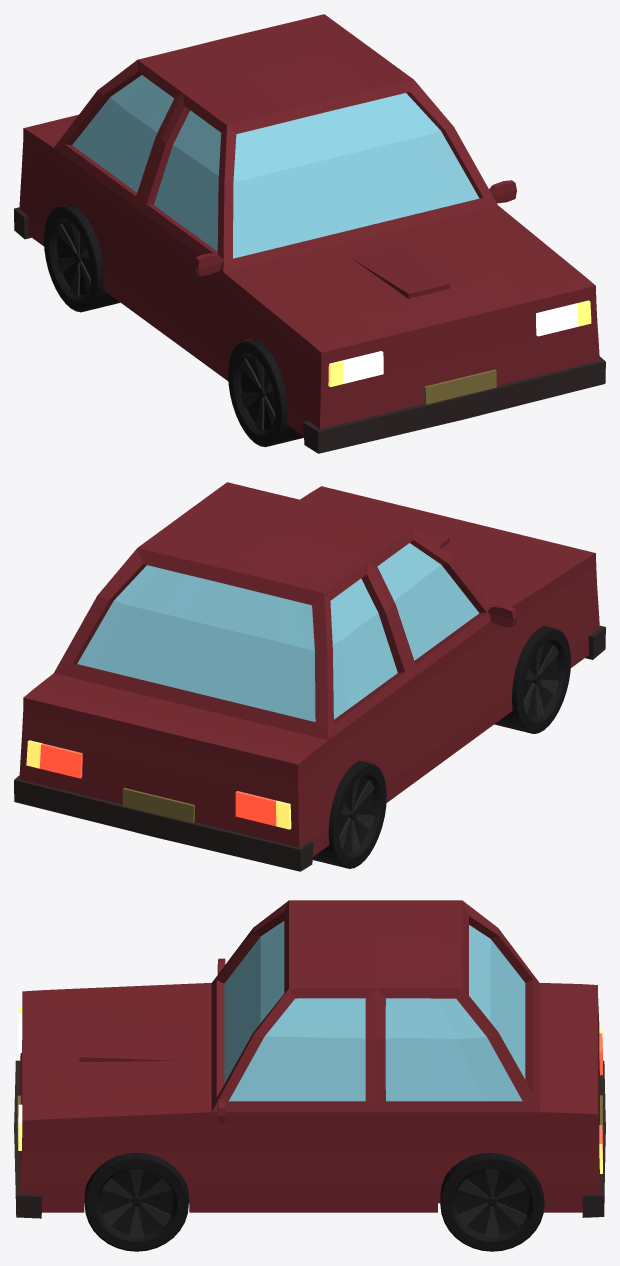
File: Small_Car.fbx
3 views of the same model, one above another, from view 1: azimuth 30°, elevation 25°; view 2: azimuth 150°, elevation 25°; view 3: azimuth 270°, elevation 25° (orthographic). The views are drawn at different scales.
Parts seen in each view (by area): view 1: Small_Car, Small_Car_Wheel3, Small_Car_Wheel1; view 2: Small_Car, Small_Car_Wheel1, Small_Car_Wheel3; view 3: Small_Car, Small_Car_Wheel2, Small_Car_Wheel4.
Part boxes in pixels (<box>): Small_Car: <box>14,14,605,453</box>; Small_Car_Wheel3: <box>44,204,120,312</box>; Small_Car_Wheel1: <box>228,339,303,447</box>; Small_Car: <box>14,482,605,871</box>; Small_Car_Wheel1: <box>494,626,570,733</box>; Small_Car_Wheel3: <box>312,761,386,868</box>; Small_Car: <box>14,900,605,1218</box>; Small_Car_Wheel2: <box>84,1152,188,1251</box>; Small_Car_Wheel4: <box>440,1152,544,1251</box>.
Bounding box in the file's own units: 2.24 × 1.68 × 3.73.
